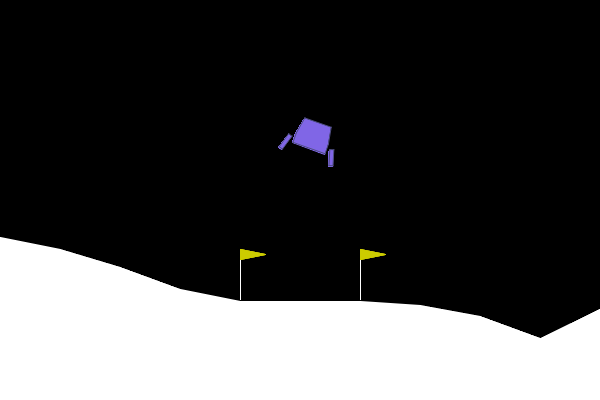lander: (277, 111, 347, 169)
